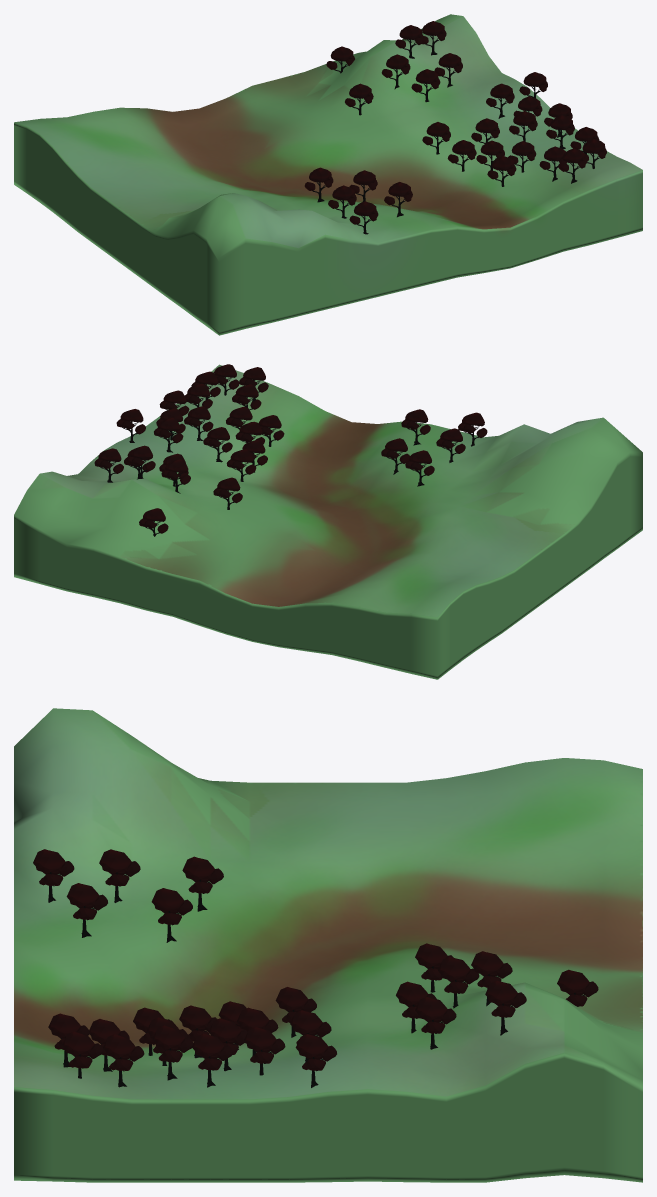
The model's file is ground.glb.
3 views of the same model, one above another, from view 1: azimuth 30°, elevation 25°; view 2: azimuth 150°, elevation 25°; view 3: azimuth 270°, elevation 25° (orthographic). The views are drawn at different scales.
Parts seen in each view (by area): view 1: ground, tree1.010, tree1.025, tree1.008, tree1.012, tree1.021, tree1.003, tree1.004, tree1.005, tree1.007, tree1.002, tree1.009 (+8 smaller); view 2: ground, tree1.008, tree1.010, tree1.013, tree1.025, tree1.019, tree1.026, tree1.017, tree1.003, tree1.006, tree1.007, tree1.005 (+10 smaller); view 3: ground, tree1.010, tree1.021, tree1.008, tree1.017, tree1.006, tree1.007, tree1.020, tree1.015, tree1.002, tree1.009, tree1.026 (+14 smaller).
Boxes of the visible parts, x1,y1,x2,y2 form: ground: [14, 14, 642, 335]; tree1.010: [304, 167, 333, 202]; tree1.025: [486, 83, 514, 118]; tree1.008: [384, 182, 412, 217]; tree1.012: [558, 148, 586, 183]; tree1.021: [546, 115, 574, 149]; tree1.003: [381, 54, 410, 89]; tree1.004: [411, 69, 440, 102]; tree1.005: [395, 25, 423, 58]; tree1.007: [328, 185, 356, 218]; tree1.002: [434, 53, 462, 87]; tree1.009: [349, 201, 378, 234]; ground: [14, 364, 642, 679]; tree1.008: [401, 409, 430, 445]; tree1.010: [405, 450, 434, 486]; tree1.013: [203, 427, 232, 462]; tree1.025: [154, 417, 183, 452]; tree1.019: [184, 406, 213, 440]; tree1.026: [116, 409, 145, 442]; tree1.017: [381, 438, 410, 474]; tree1.003: [161, 459, 190, 493]; tree1.006: [94, 448, 123, 482]; tree1.007: [436, 428, 465, 462]; tree1.005: [126, 445, 155, 478]; ground: [14, 708, 642, 1182]; tree1.010: [182, 856, 223, 911]; tree1.021: [152, 1025, 193, 1080]; tree1.008: [66, 883, 107, 937]; tree1.017: [151, 888, 192, 942]; tree1.006: [485, 980, 526, 1035]; tree1.007: [99, 849, 140, 902]; tree1.020: [192, 1033, 233, 1087]; tree1.015: [103, 1034, 144, 1087]; tree1.002: [415, 996, 456, 1049]; tree1.009: [33, 849, 74, 902]; tree1.026: [295, 1034, 336, 1087].
Size of the model in its own units: 305 by 85.86 by 254.
2 materials, 2 textured.
